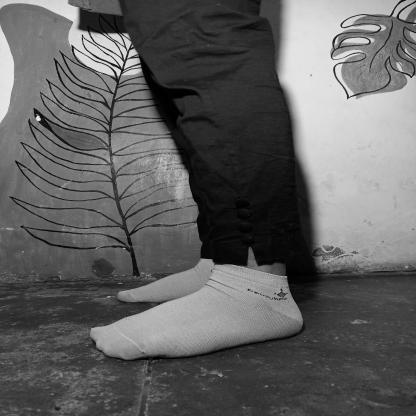ankle: (250, 290, 253, 294)
heel: (300, 319, 302, 321)
left_foot: (91, 277, 304, 361)
pinky: (126, 353, 129, 357)
toe: (95, 329, 98, 333)
